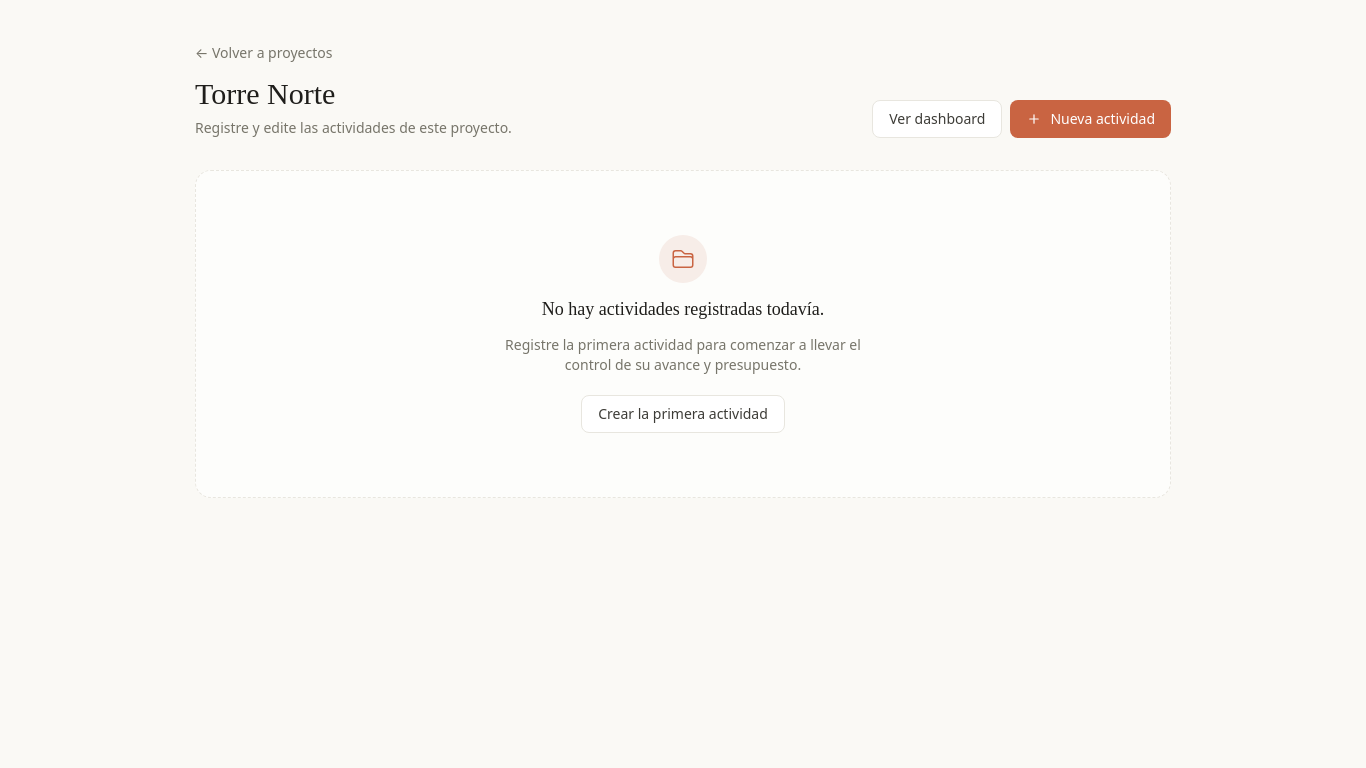
it: ActividadesListado › creates an activity and refreshes the list
Expected: the text "No hay actividades registradas todavía." is shown, [542,295,824,323]
Click the button "Nueva actividad" at [1091, 119], box [1010,100,1171,138]
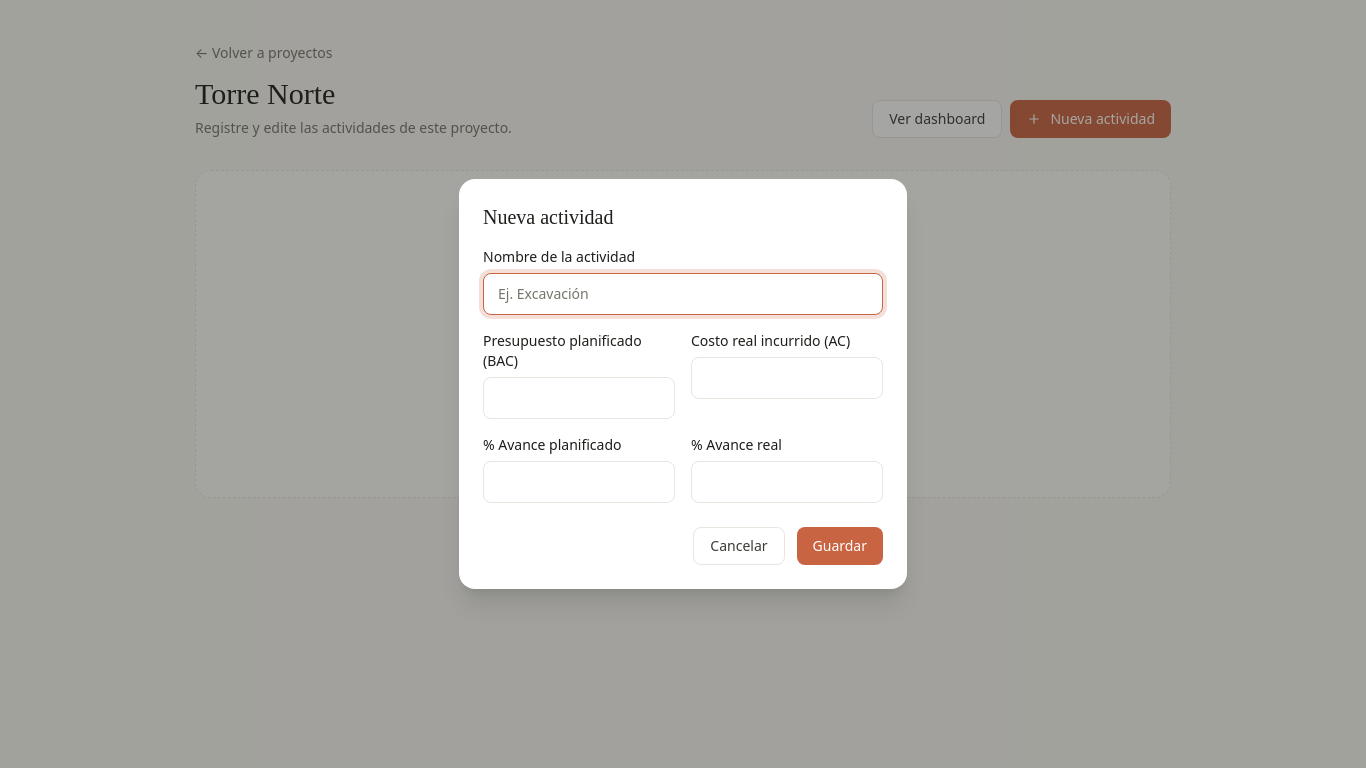
Type "Excavación" into the field labelled "Nombre de la actividad" at [683, 294], box [483,273,883,315]
Type "100000" into the number field labelled "Presupuesto planificado (BAC)" at [579, 398], box [483,377,675,419]
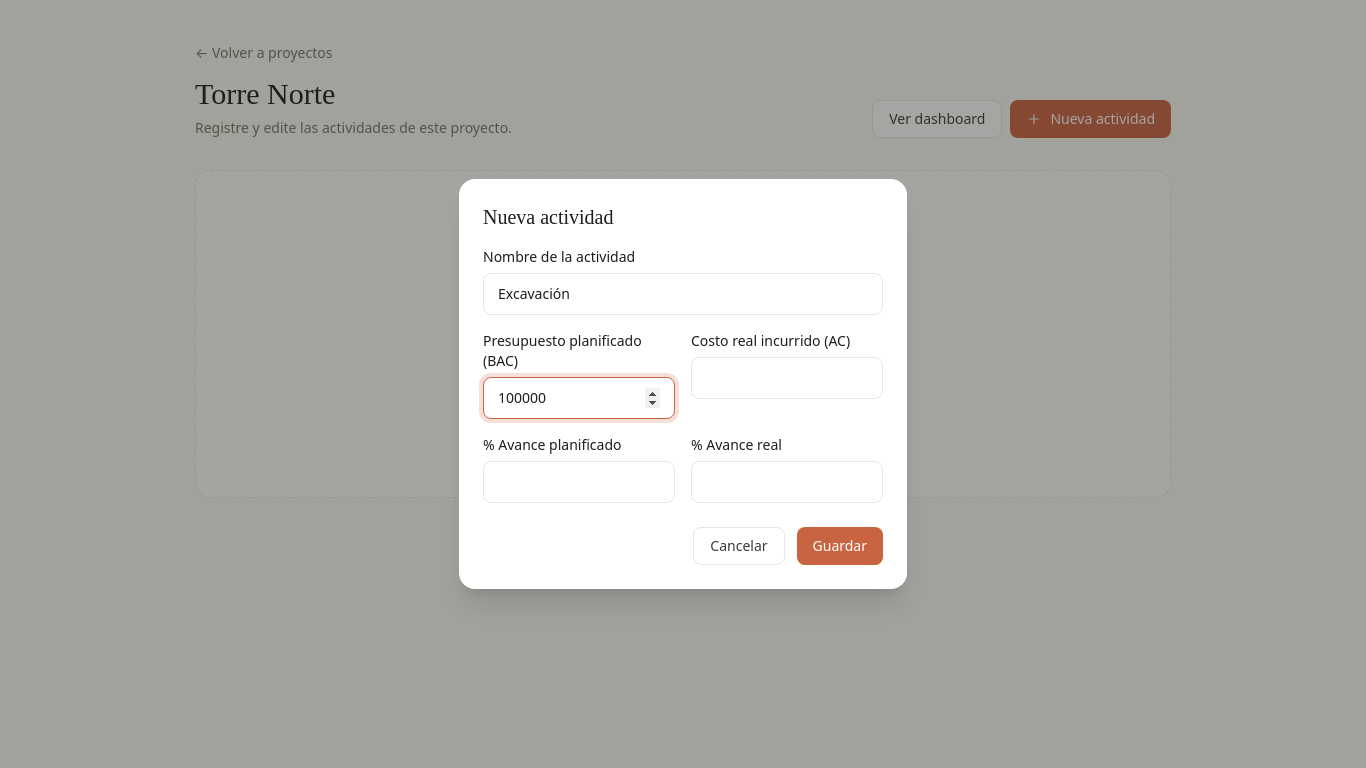
Type "50" into the number field labelled "% Avance planificado" at [579, 482], box [483,461,675,503]
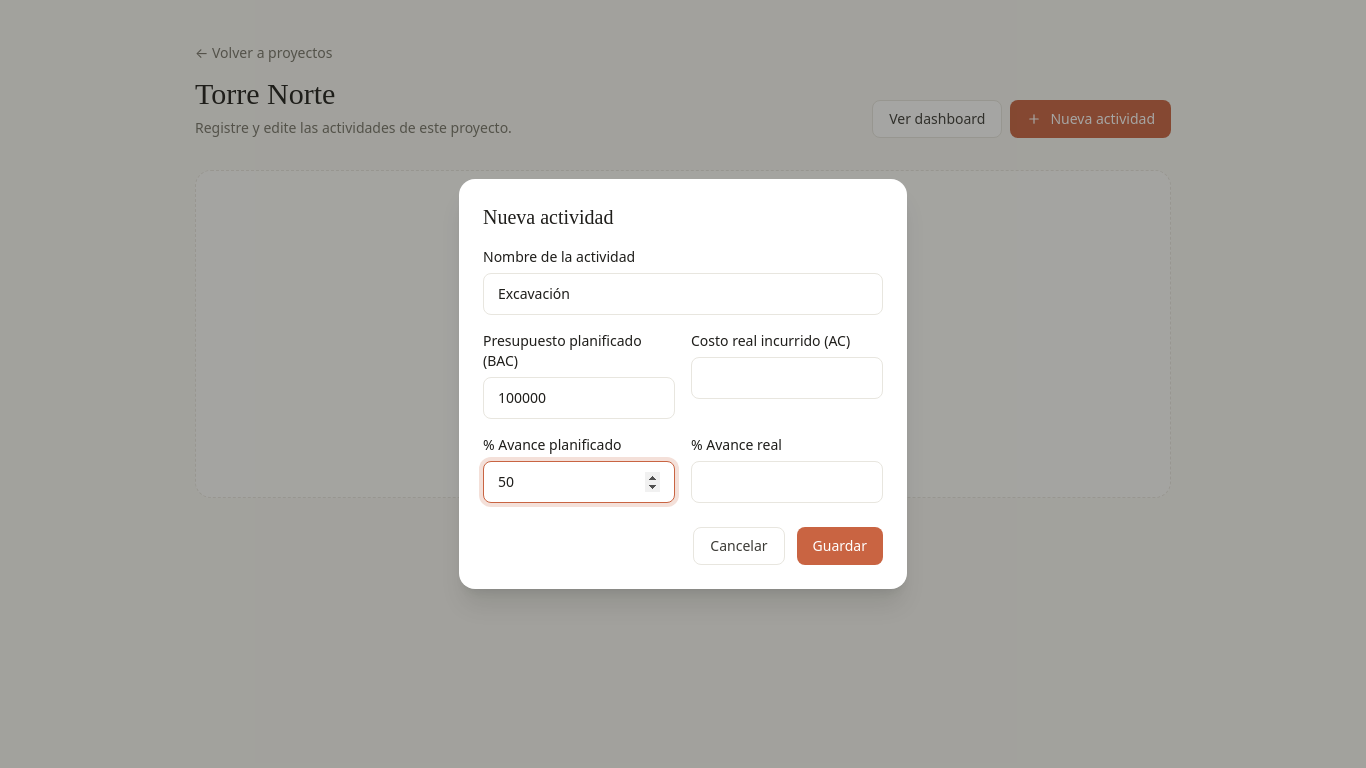
Type "40" into the number field labelled "% Avance real" at [787, 482], box [691,461,883,503]
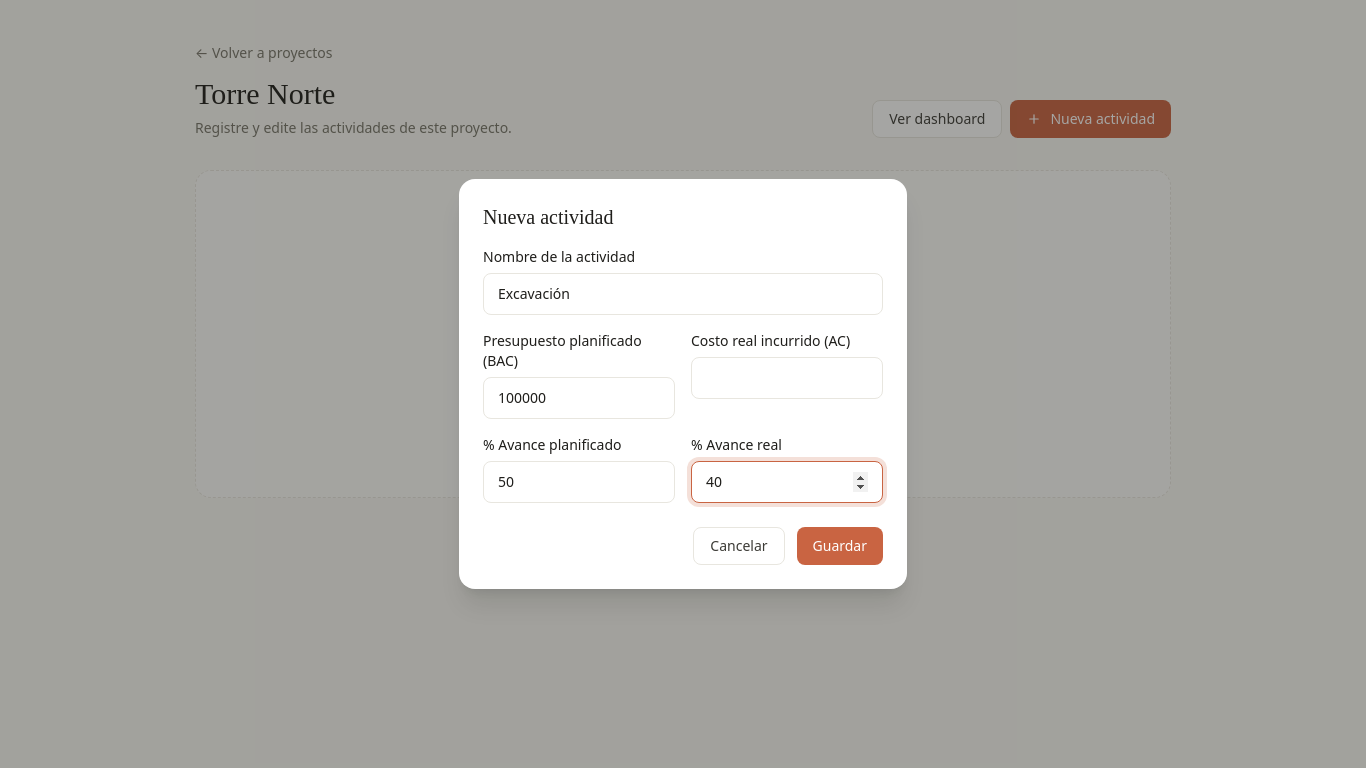
Type "50000" into the number field labelled "Costo real incurrido (AC)" at [787, 378], box [691,357,883,399]
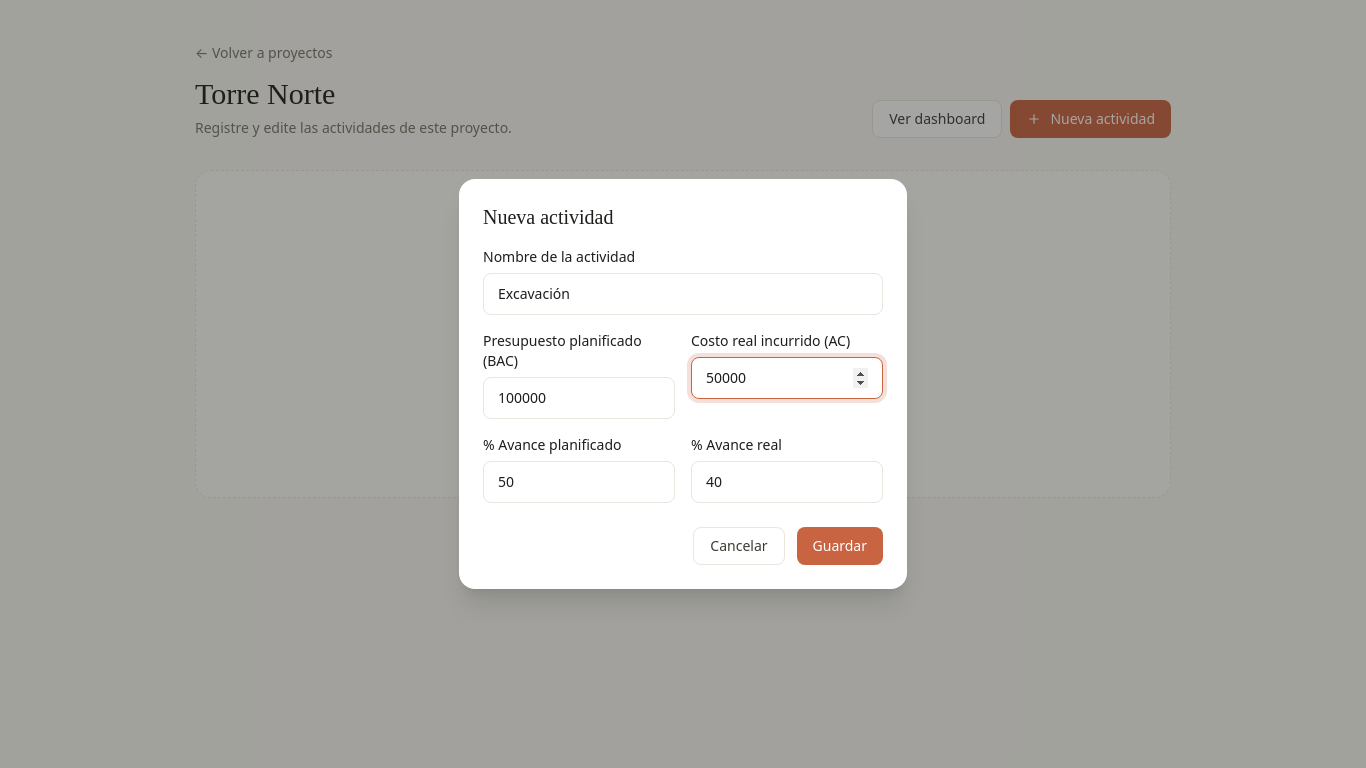
Click the button "Guardar" at [840, 546], box [796,527,883,565]
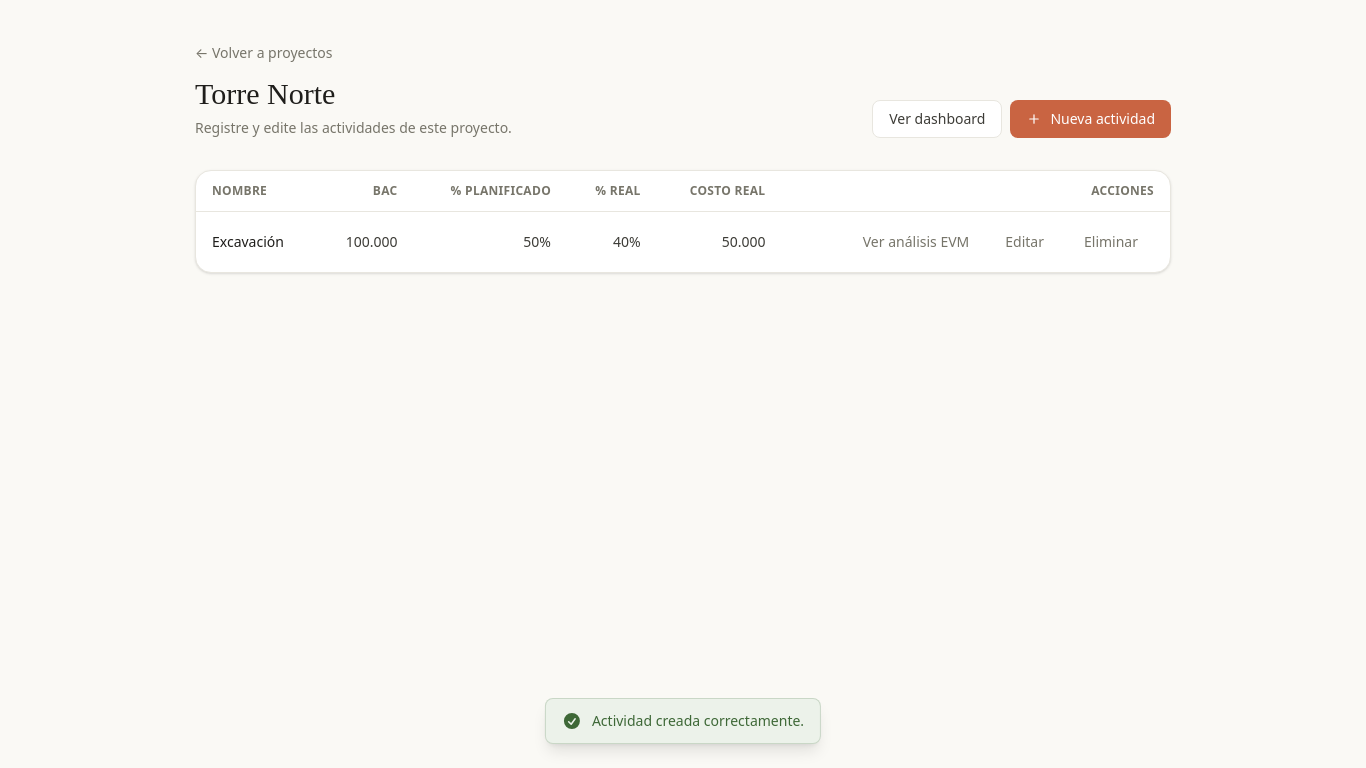
Now the text "Excavación" is shown, box [196,212,316,272]
Now the text "Actividad creada correctamente." is shown, box [545,698,821,744]
